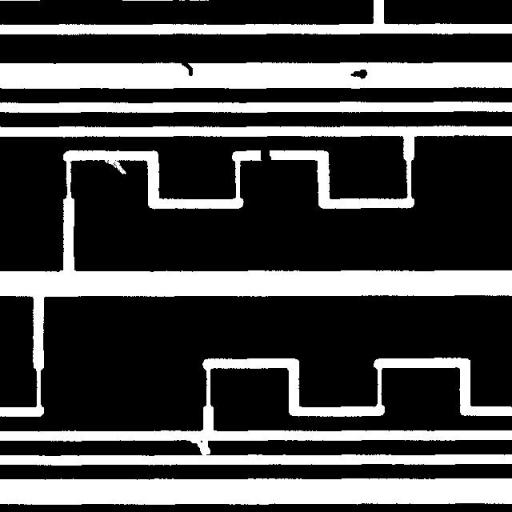copper: (342, 62, 374, 86)
mousebite: (96, 151, 134, 182)
open: (182, 430, 218, 462)
short: (253, 136, 278, 173)
spur: (173, 52, 200, 83)
